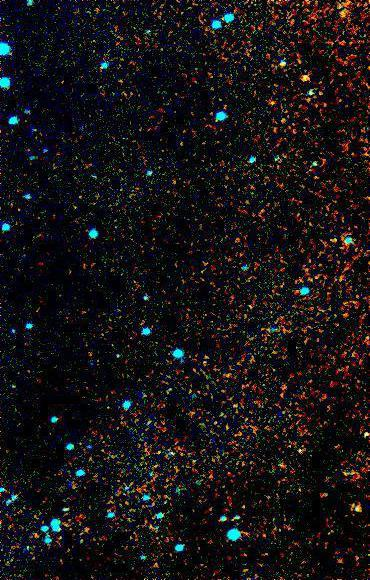star: (287, 71, 317, 101)
